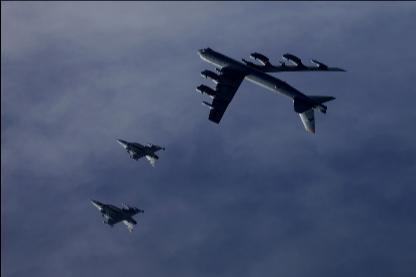B2: (195, 47, 346, 133)
JAS39: (87, 199, 143, 233), (114, 139, 164, 167)
